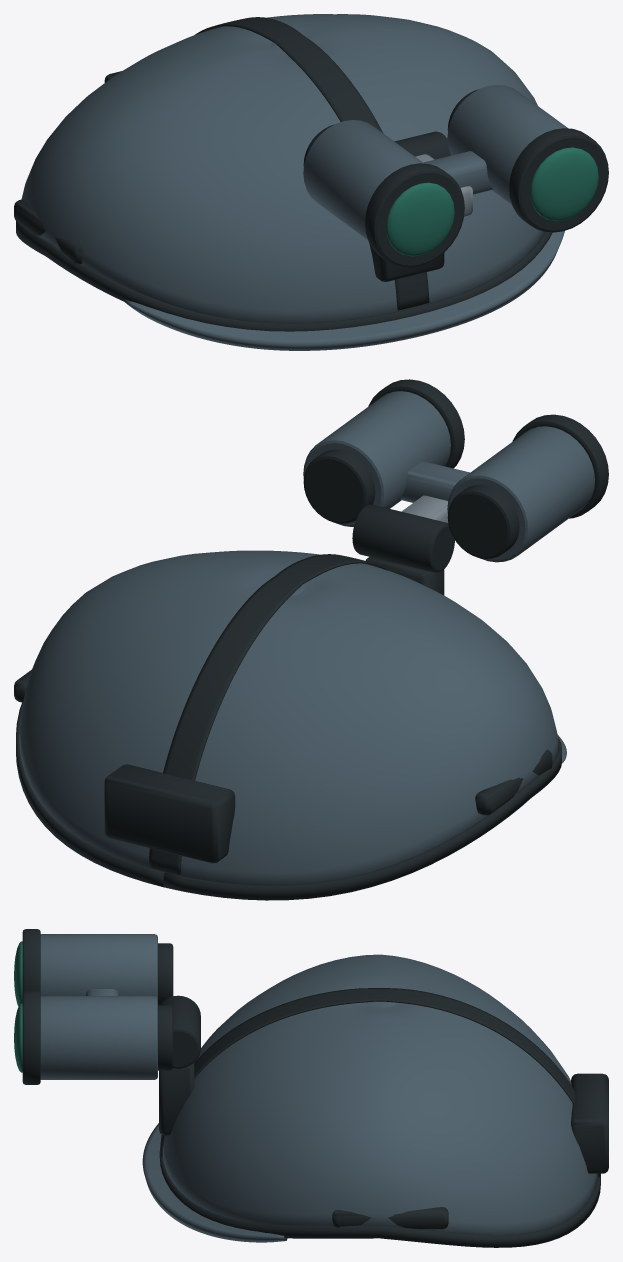
The model's file is goose-headwear-nvg.glb.
The picture shows the model from 3 angles, top to bottom: view 1: azimuth 30°, elevation 25°; view 2: azimuth 150°, elevation 25°; view 3: azimuth 270°, elevation 25°; orthographic projection. The views are drawn at different scales.
Parts seen in each view (by area): view 1: goose_headwear_nvg_mesh; view 2: goose_headwear_nvg_mesh; view 3: goose_headwear_nvg_mesh.
Part boxes in pixels (box(x1,y1,x2,y2)): goose_headwear_nvg_mesh: box(14, 14, 608, 350); goose_headwear_nvg_mesh: box(14, 379, 608, 900); goose_headwear_nvg_mesh: box(14, 929, 608, 1247).
Bounding box in the file's own units: 0.977 × 0.4806 × 1.18.
